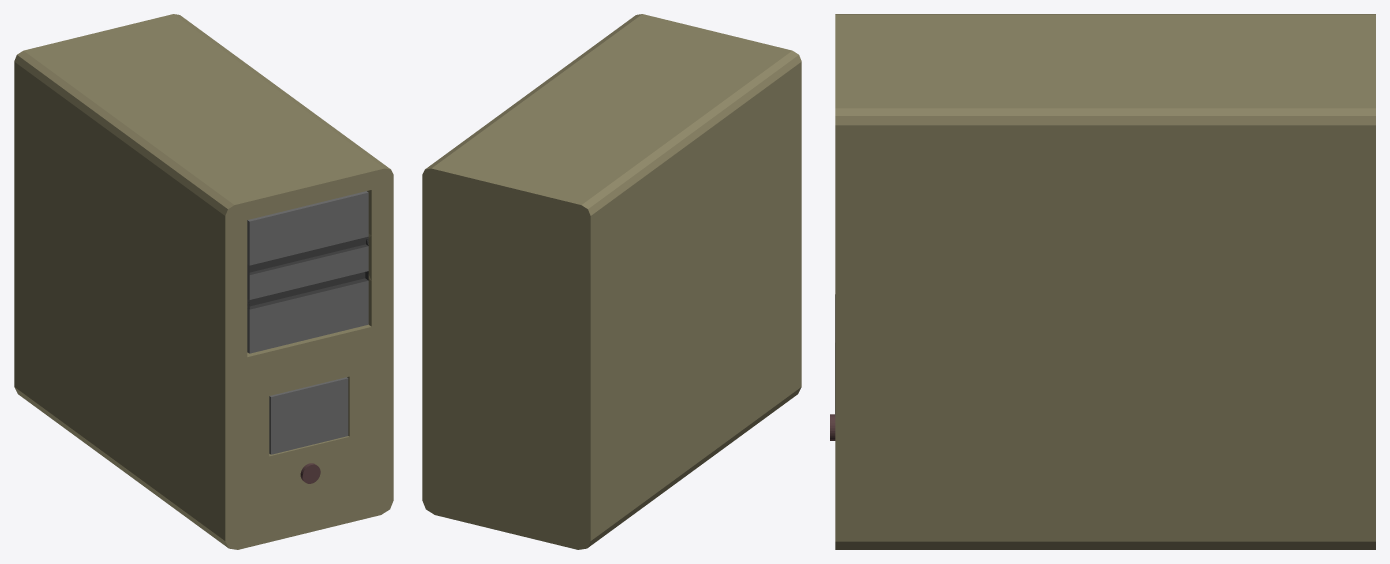
File: Computadot.fbx
The picture shows the model from 3 angles, left to right: view 1: azimuth 30°, elevation 25°; view 2: azimuth 150°, elevation 25°; view 3: azimuth 270°, elevation 25°; orthographic projection. The views are drawn at different scales.
Parts seen in each view (by area): view 1: Cube; view 2: Cube; view 3: Cube.
Part boxes in pixels (left/top/right/bottom): Cube: left=14, top=14, right=393, bottom=549; Cube: left=422, top=14, right=801, bottom=549; Cube: left=835, top=14, right=1375, bottom=549.
Bounding box in the file's own units: 99.52 × 195 × 218.
